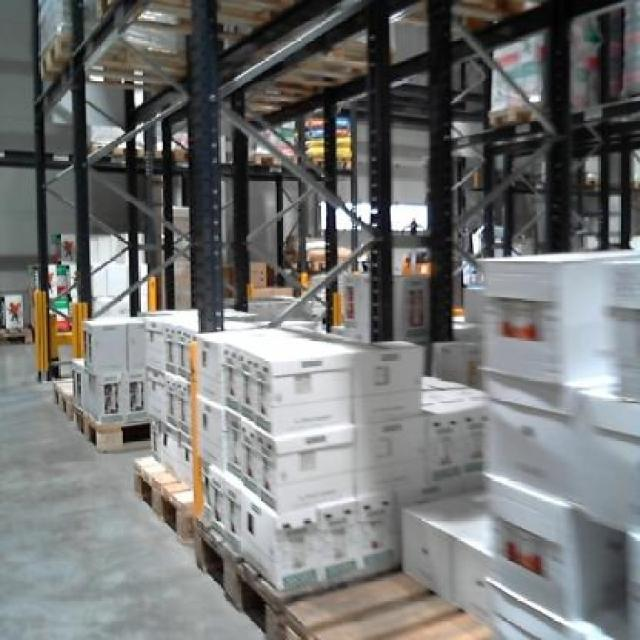pallets: (480, 249, 637, 637), (195, 328, 422, 588)
